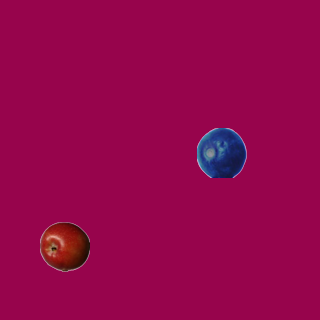Apple Braeburn: (39, 221, 89, 271)
Huckleberry: (196, 127, 246, 177)
